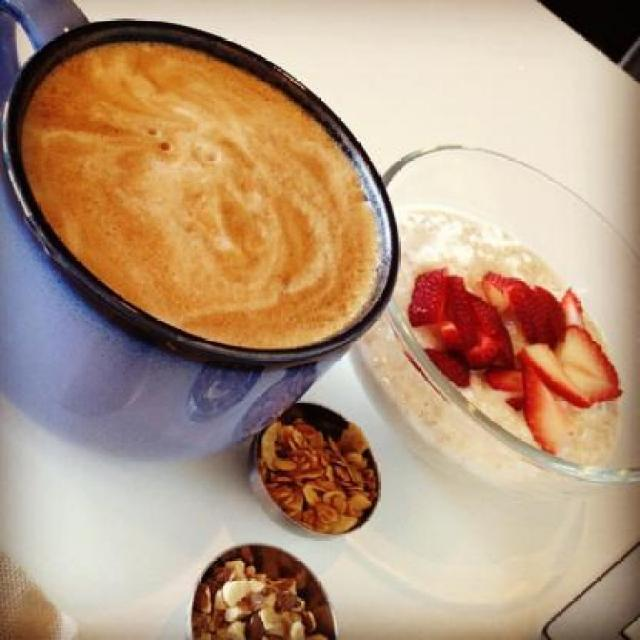Strawberry: (423, 274, 625, 460), (408, 272, 450, 325)
